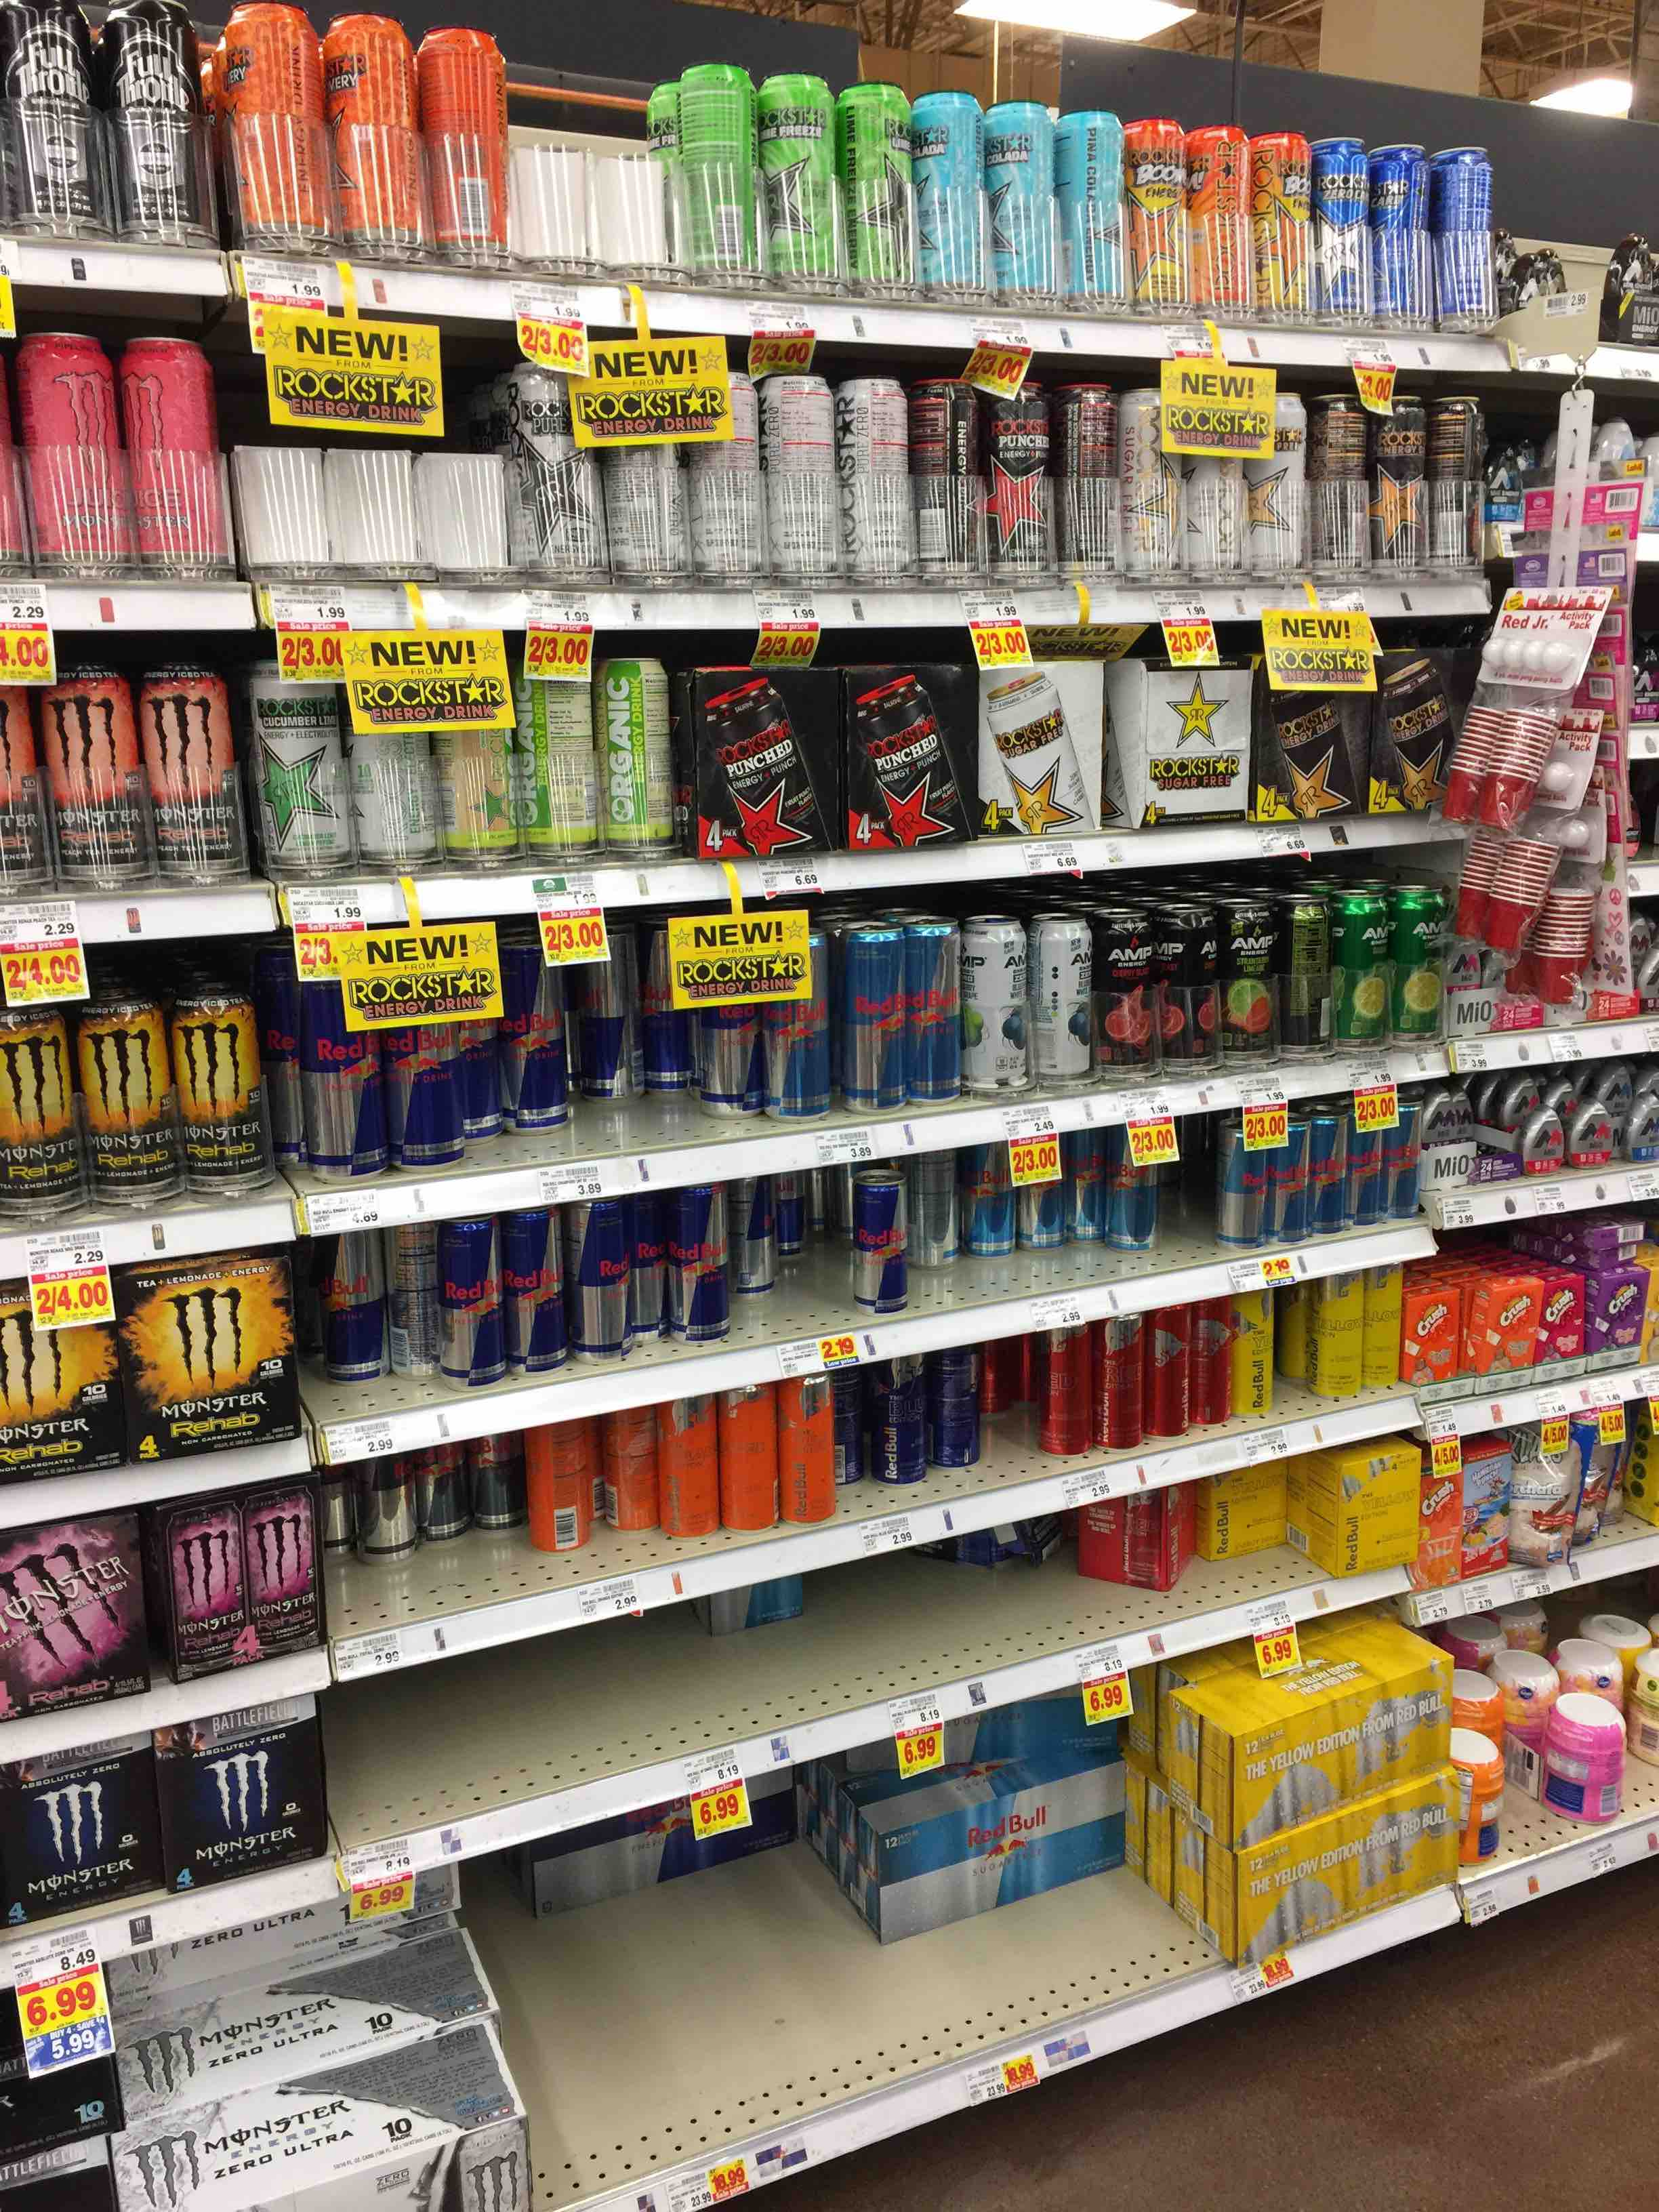Misplacement: (518, 1766, 859, 2179), (849, 1702, 1202, 2048), (375, 932, 699, 1155), (892, 1139, 1176, 1329), (301, 1426, 537, 1641), (647, 1578, 929, 1742), (295, 1226, 453, 1430), (826, 1345, 988, 1524), (704, 1174, 863, 1348), (538, 1416, 681, 1575), (1188, 1463, 1349, 1604)
Out-of-stock: (331, 1604, 681, 1871)
